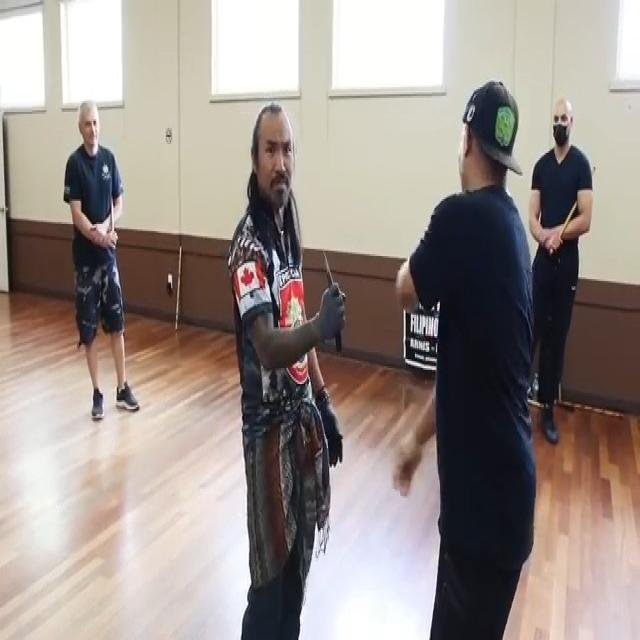Sharp-Object: (321, 250, 347, 365)
